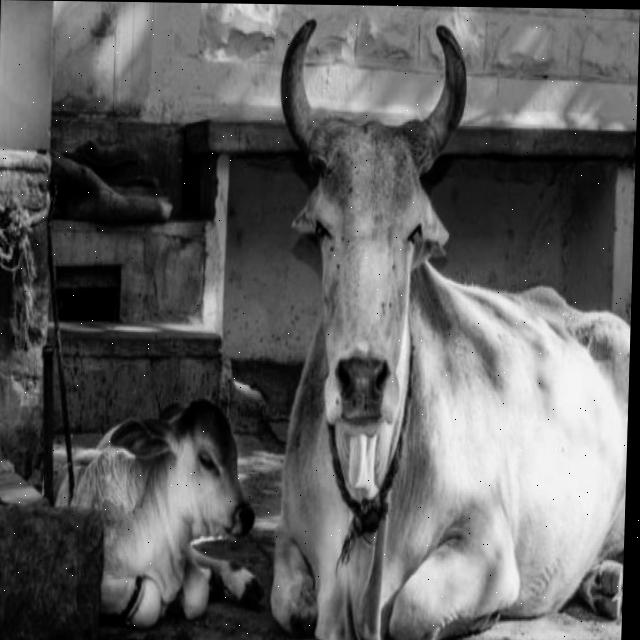Cow: (262, 15, 639, 640), (47, 394, 269, 630)
